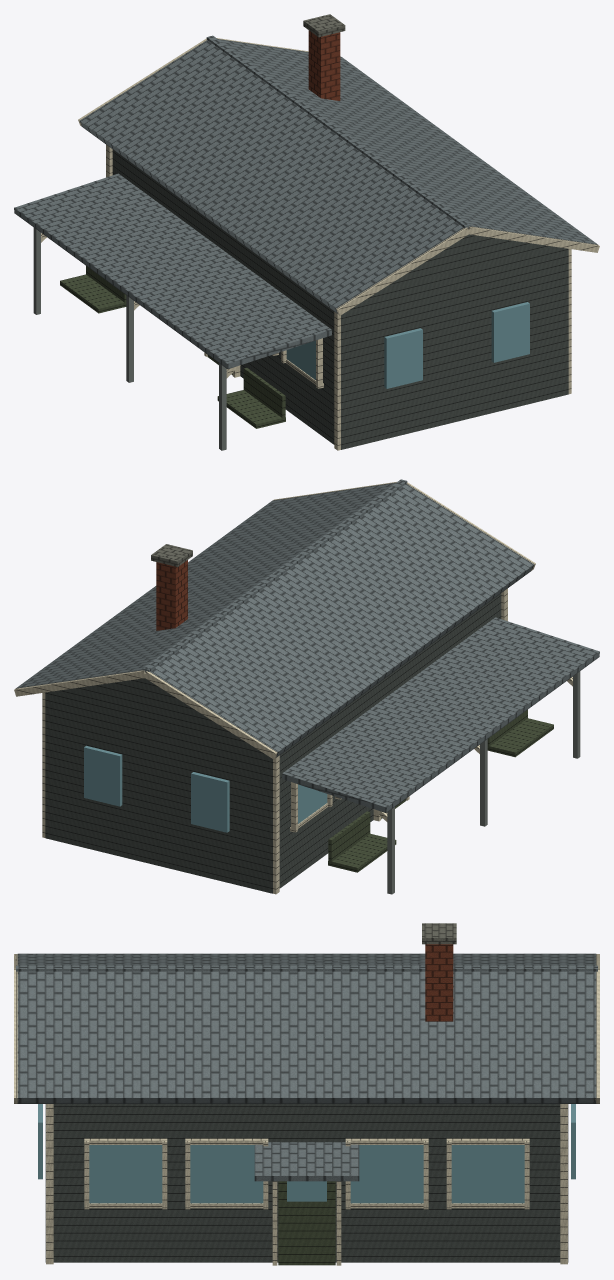
Rendered from norway-station-modern_lod0.glb.
3 views of the same model, one above another, from view 1: azimuth 30°, elevation 25°; view 2: azimuth 150°, elevation 25°; view 3: azimuth 270°, elevation 25° (orthographic). The views are drawn at different scales.
Parts seen in each view (by area): view 1: RF_Station_Roof-1, RF_Station_Body, RF_Station_Canopy, RF_Station_Roof1, RF_Station_Gable.001, RF_Station_Ridge, RF_Station_Chimney, RF_Station_EndWindow.001, RF_Station_EndWindow.002, RF_Station_Vergeband.001, RF_Station_Bench, RF_Station_Bench.001 (+9 smaller); view 2: RF_Station_Roof-1, RF_Station_Body, RF_Station_Canopy, RF_Station_Roof1, RF_Station_Gable, RF_Station_Ridge, RF_Station_EndWindow.003, RF_Station_EndWindow, RF_Station_Chimney, RF_Station_Vergeband.002, RF_Station_Bench.001, RF_Station_Bench (+9 smaller); view 3: RF_Station_Roof1, RF_Station_Body, RF_Station_Roof-1, RF_Station_Window.005, RF_Station_Window, RF_Station_PublicAwning, RF_Station_Door, RF_Station_Window.006, RF_Station_Window.007, RF_Station_Ridge, RF_Station_Chimney, RF_Station_Corner.003 (+11 smaller).
Part boxes in pixels (left/top/right/bottom): RF_Station_Roof-1: left=80, top=40, right=463, bottom=313; RF_Station_Body: left=112, top=149, right=568, bottom=449; RF_Station_Canopy: left=14, top=173, right=331, bottom=369; RF_Station_Roof1: left=218, top=39, right=597, bottom=244; RF_Station_Gable.001: left=385, top=234, right=553, bottom=287; RF_Station_Ridge: left=206, top=35, right=471, bottom=228; RF_Station_Chimney: left=308, top=30, right=340, bottom=100; RF_Station_EndWindow.001: left=384, top=328, right=422, bottom=388; RF_Station_EndWindow.002: left=491, top=302, right=529, bottom=362; RF_Station_Vergeband.001: left=336, top=227, right=469, bottom=315; RF_Station_Bench: left=60, top=274, right=126, bottom=313; RF_Station_Bench.001: left=217, top=390, right=285, bottom=428; RF_Station_Roof-1: left=150, top=484, right=534, bottom=757; RF_Station_Body: left=45, top=593, right=501, bottom=893; RF_Station_Canopy: left=282, top=617, right=599, bottom=812; RF_Station_Roof1: left=16, top=483, right=395, bottom=688; RF_Station_Gable: left=54, top=678, right=235, bottom=735; RF_Station_Ridge: left=142, top=479, right=407, bottom=672; RF_Station_EndWindow.003: left=191, top=772, right=229, bottom=832; RF_Station_EndWindow: left=84, top=745, right=122, bottom=806; RF_Station_Chimney: left=156, top=560, right=187, bottom=630; RF_Station_Vergeband.002: left=144, top=671, right=277, bottom=759; RF_Station_Bench.001: left=487, top=718, right=553, bottom=757; RF_Station_Bench: left=328, top=833, right=396, bottom=872; RF_Station_Roof1: left=17, top=971, right=596, bottom=1103; RF_Station_Body: left=45, top=1104, right=568, bottom=1262; RF_Station_Roof-1: left=17, top=953, right=596, bottom=965; RF_Station_Window.005: left=89, top=1145, right=162, bottom=1203; RF_Station_Window: left=451, top=1145, right=524, bottom=1203; RF_Station_PublicAwning: left=254, top=1142, right=359, bottom=1181; RF_Station_Door: left=278, top=1181, right=335, bottom=1265; RF_Station_Window.006: left=190, top=1145, right=263, bottom=1203; RF_Station_Window.007: left=350, top=1145, right=423, bottom=1203; RF_Station_Ridge: left=16, top=965, right=597, bottom=971; RF_Station_Chimney: left=425, top=944, right=453, bottom=1021; RF_Station_Corner.003: left=46, top=1104, right=53, bottom=1264.
Size of the model in its own units: 14.23 by 9.3 by 16.82.
8 materials, 6 textured.
